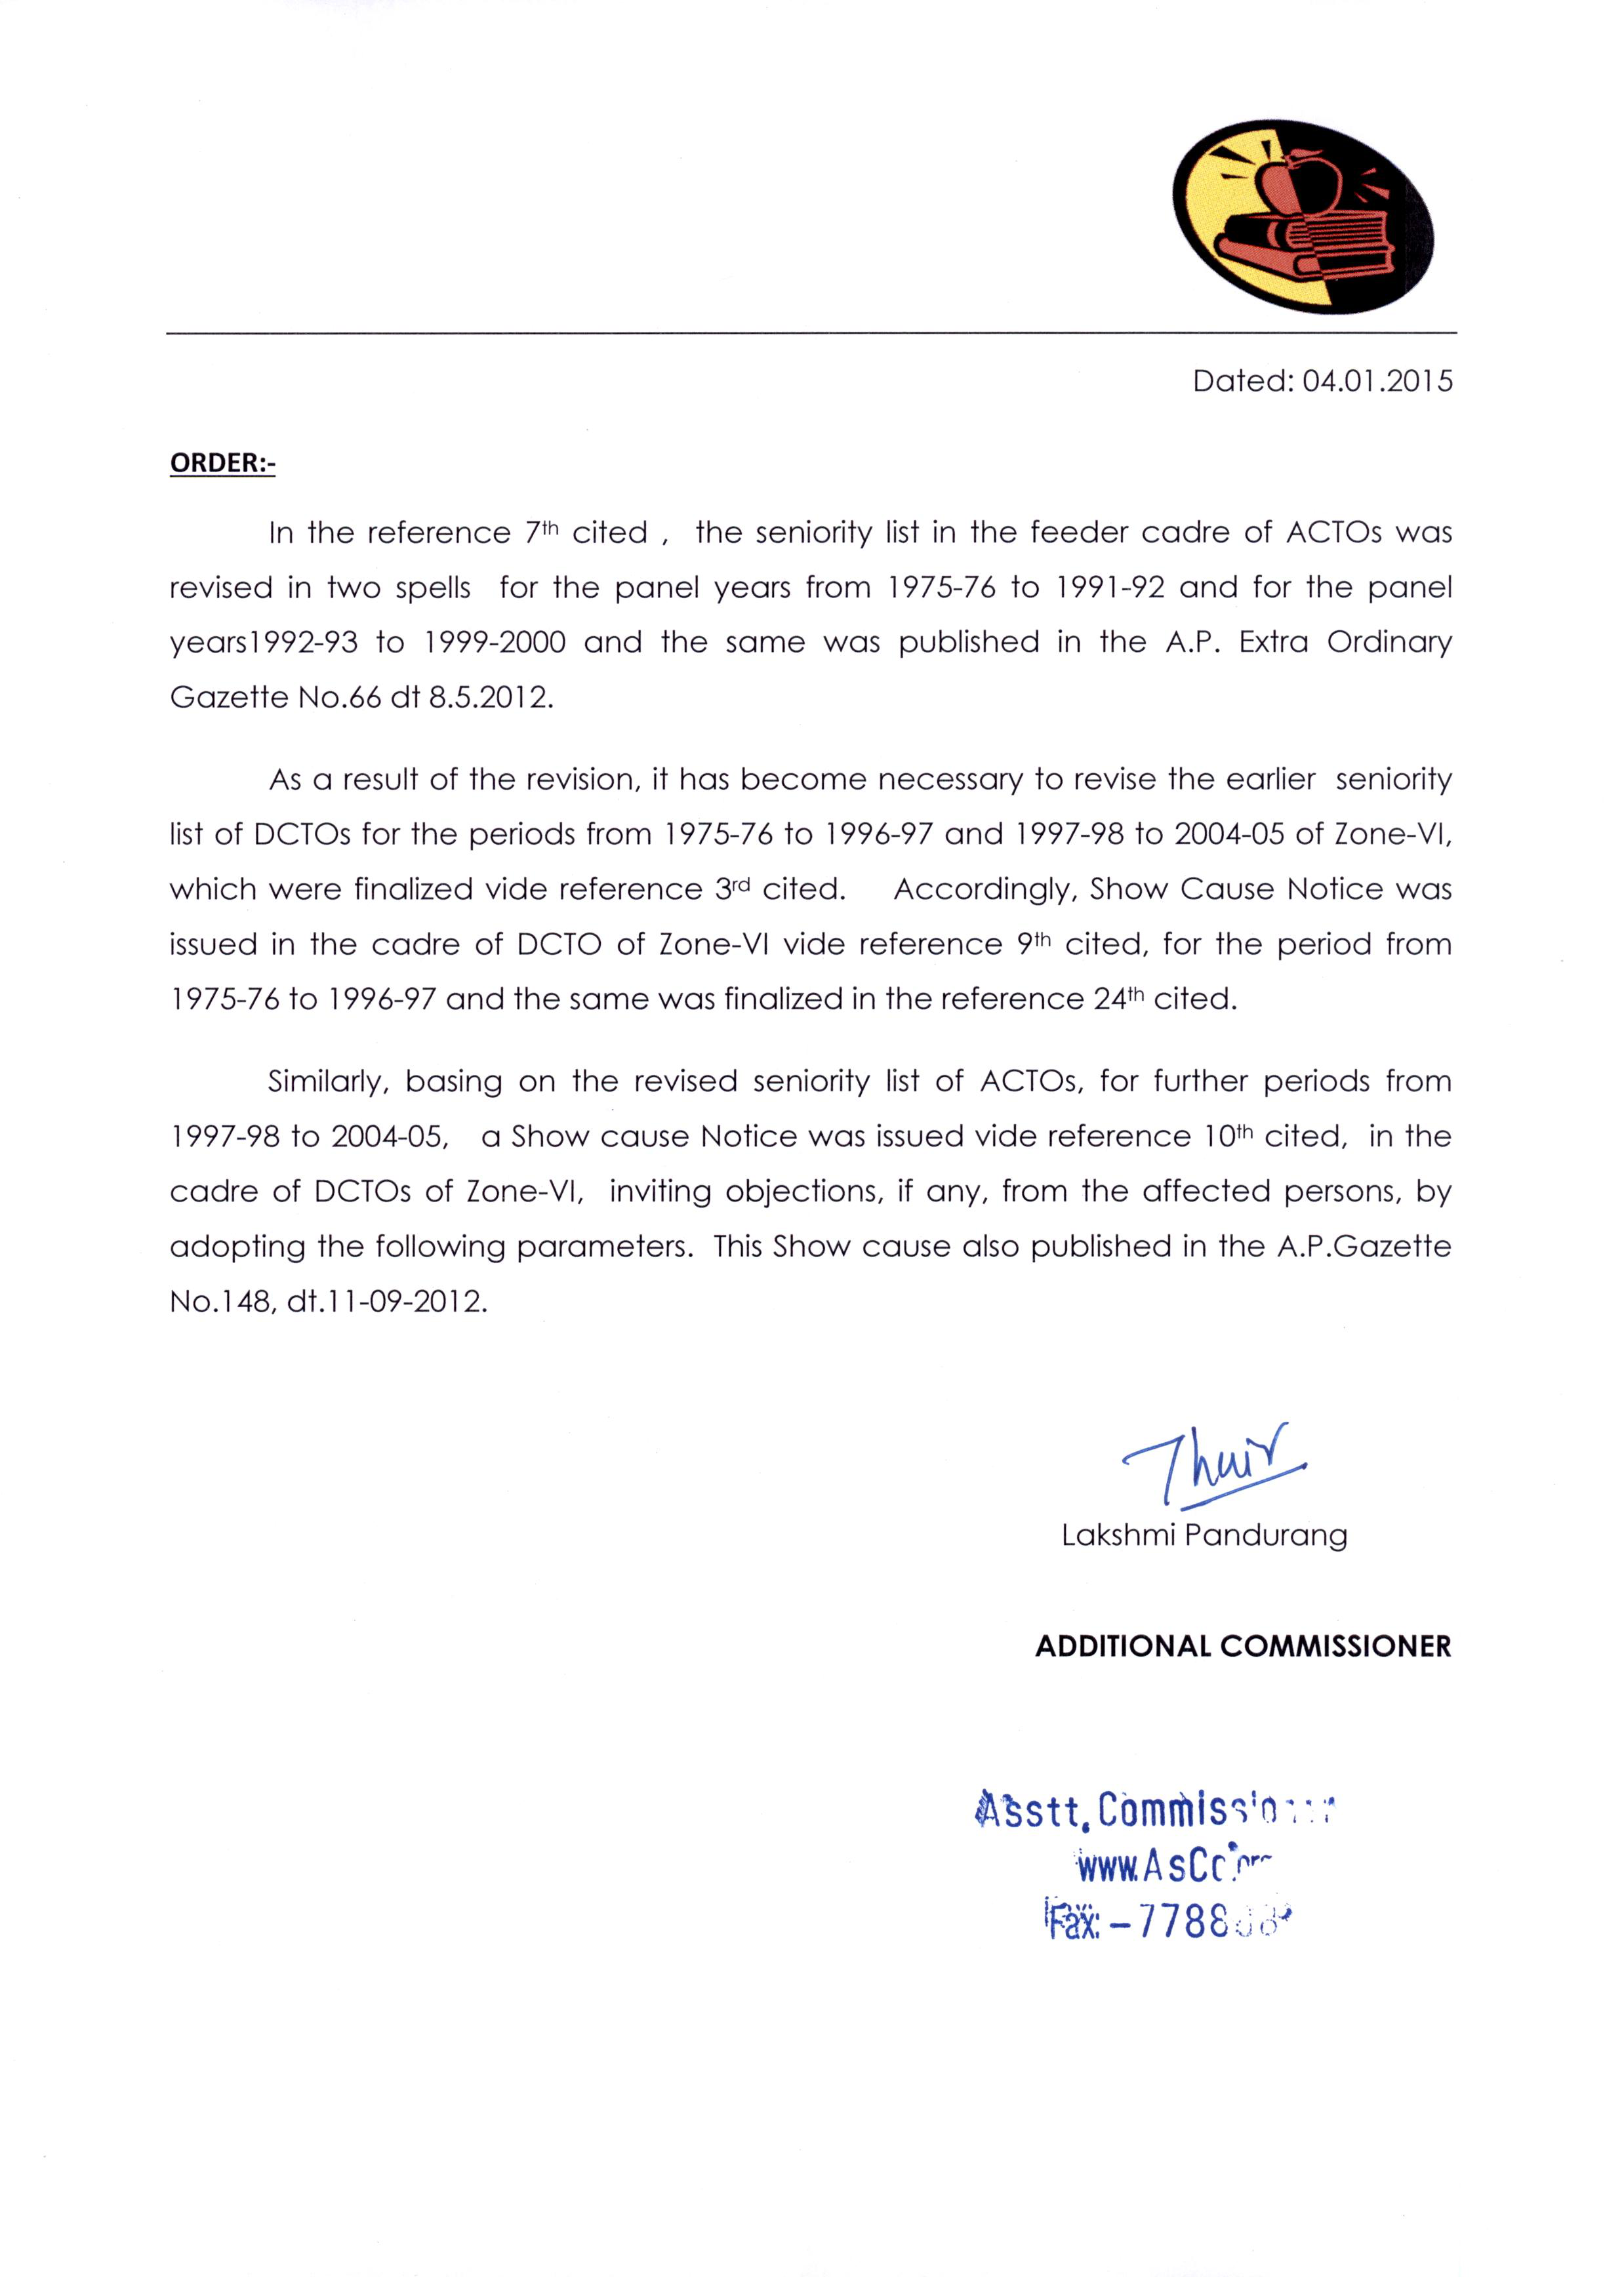Signature: (1114, 1411, 1323, 1522)
